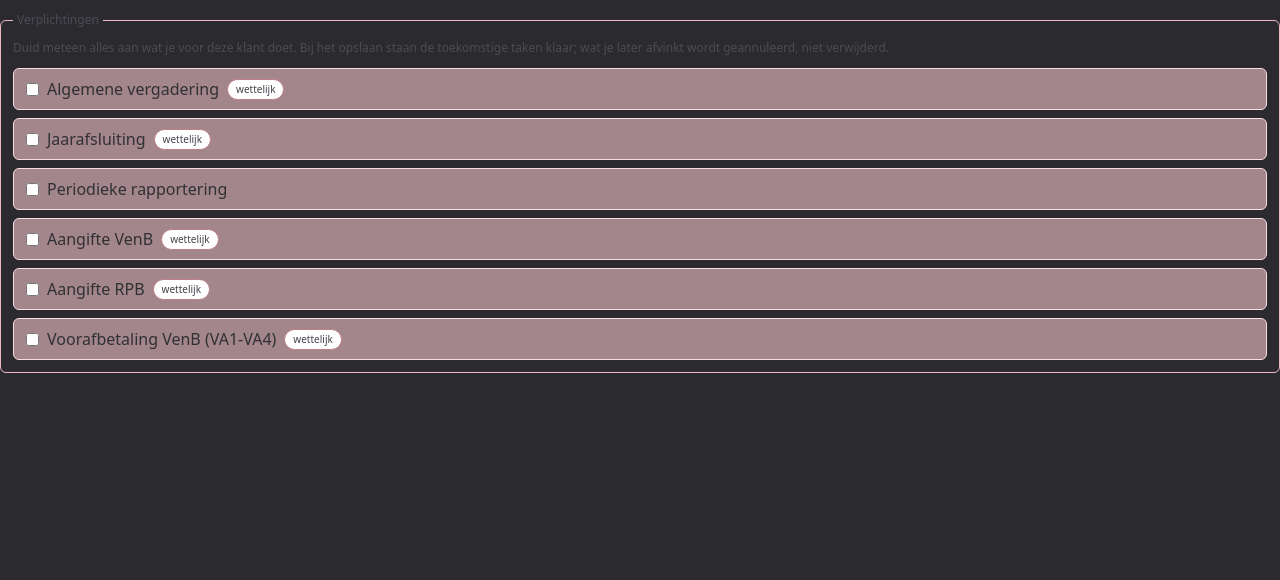
Test: ObligationPicker — de jaarafsluiting zonder algemene vergadering › zwijgt zodra de algemene vergadering er wel bij staat
Click the checkbox labelled "Algemene vergadering wettelijk" at [32, 89], box [26,82,39,96]
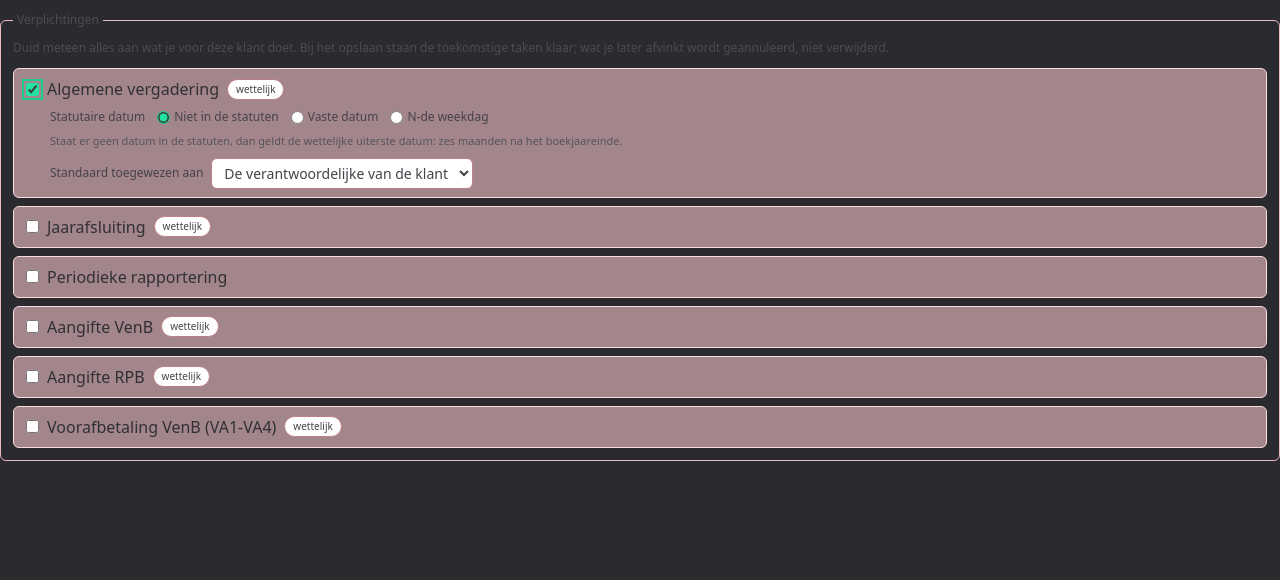
Click the checkbox labelled "Jaarafsluiting wettelijk" at [32, 226], box [26,220,39,233]
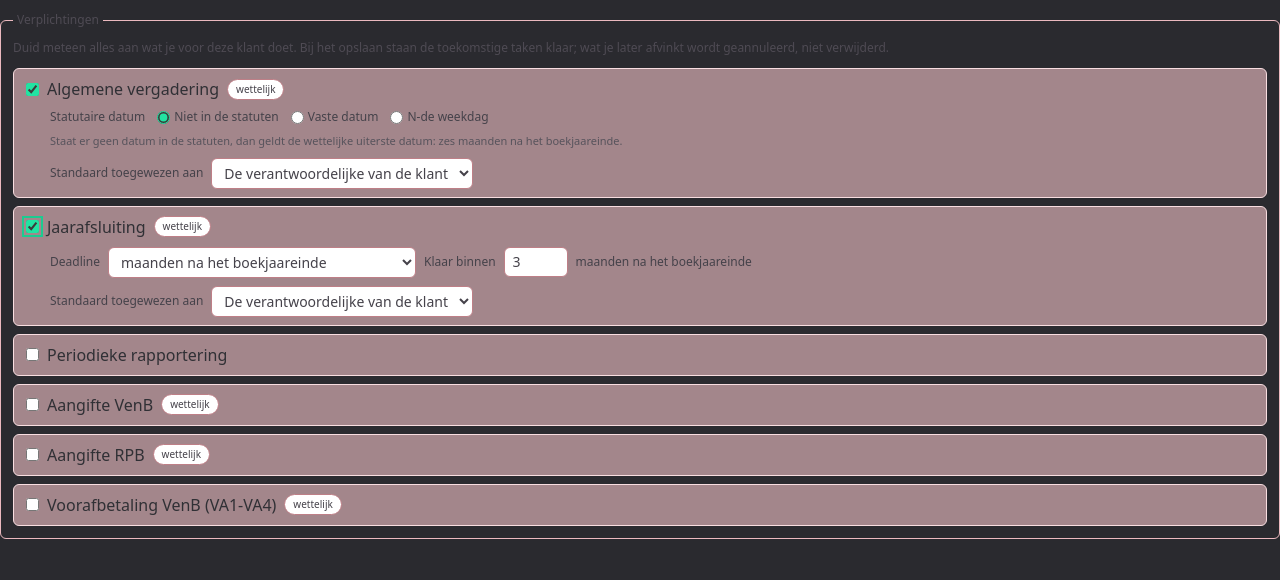
Select "maanden voor de algemene vergadering" in the dropdown named "Deadline jaarafsluiting" at [262, 262], box [108,246,416,278]
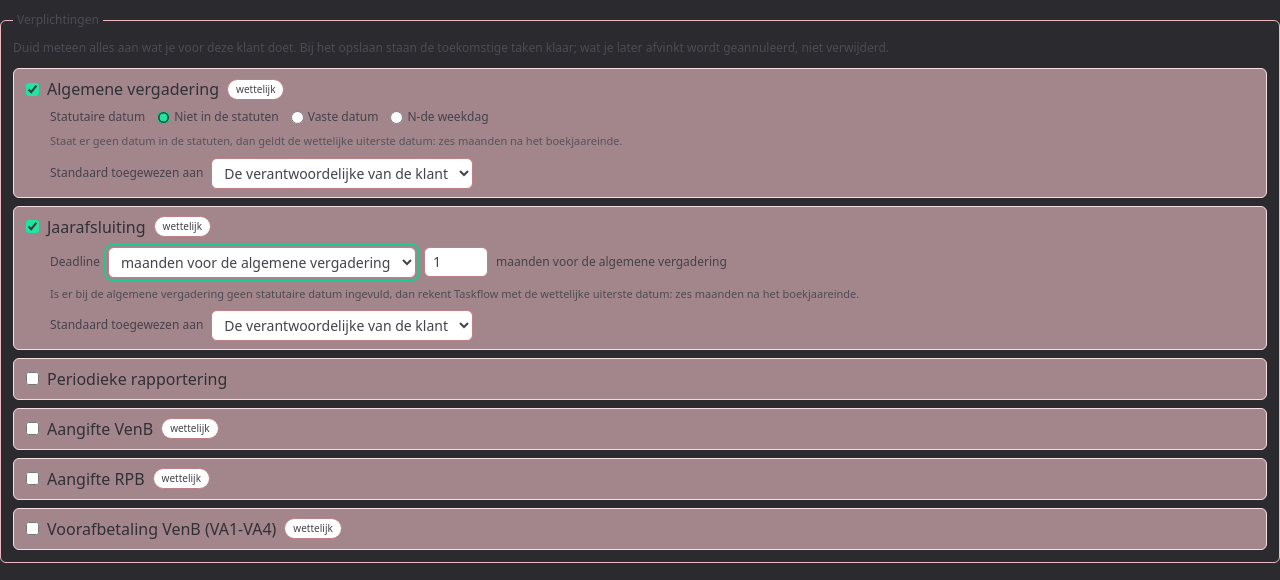
Result: the text "Is er bij de algemene vergadering geen statutaire datum ingevuld" is shown at [50,286,859,300]
